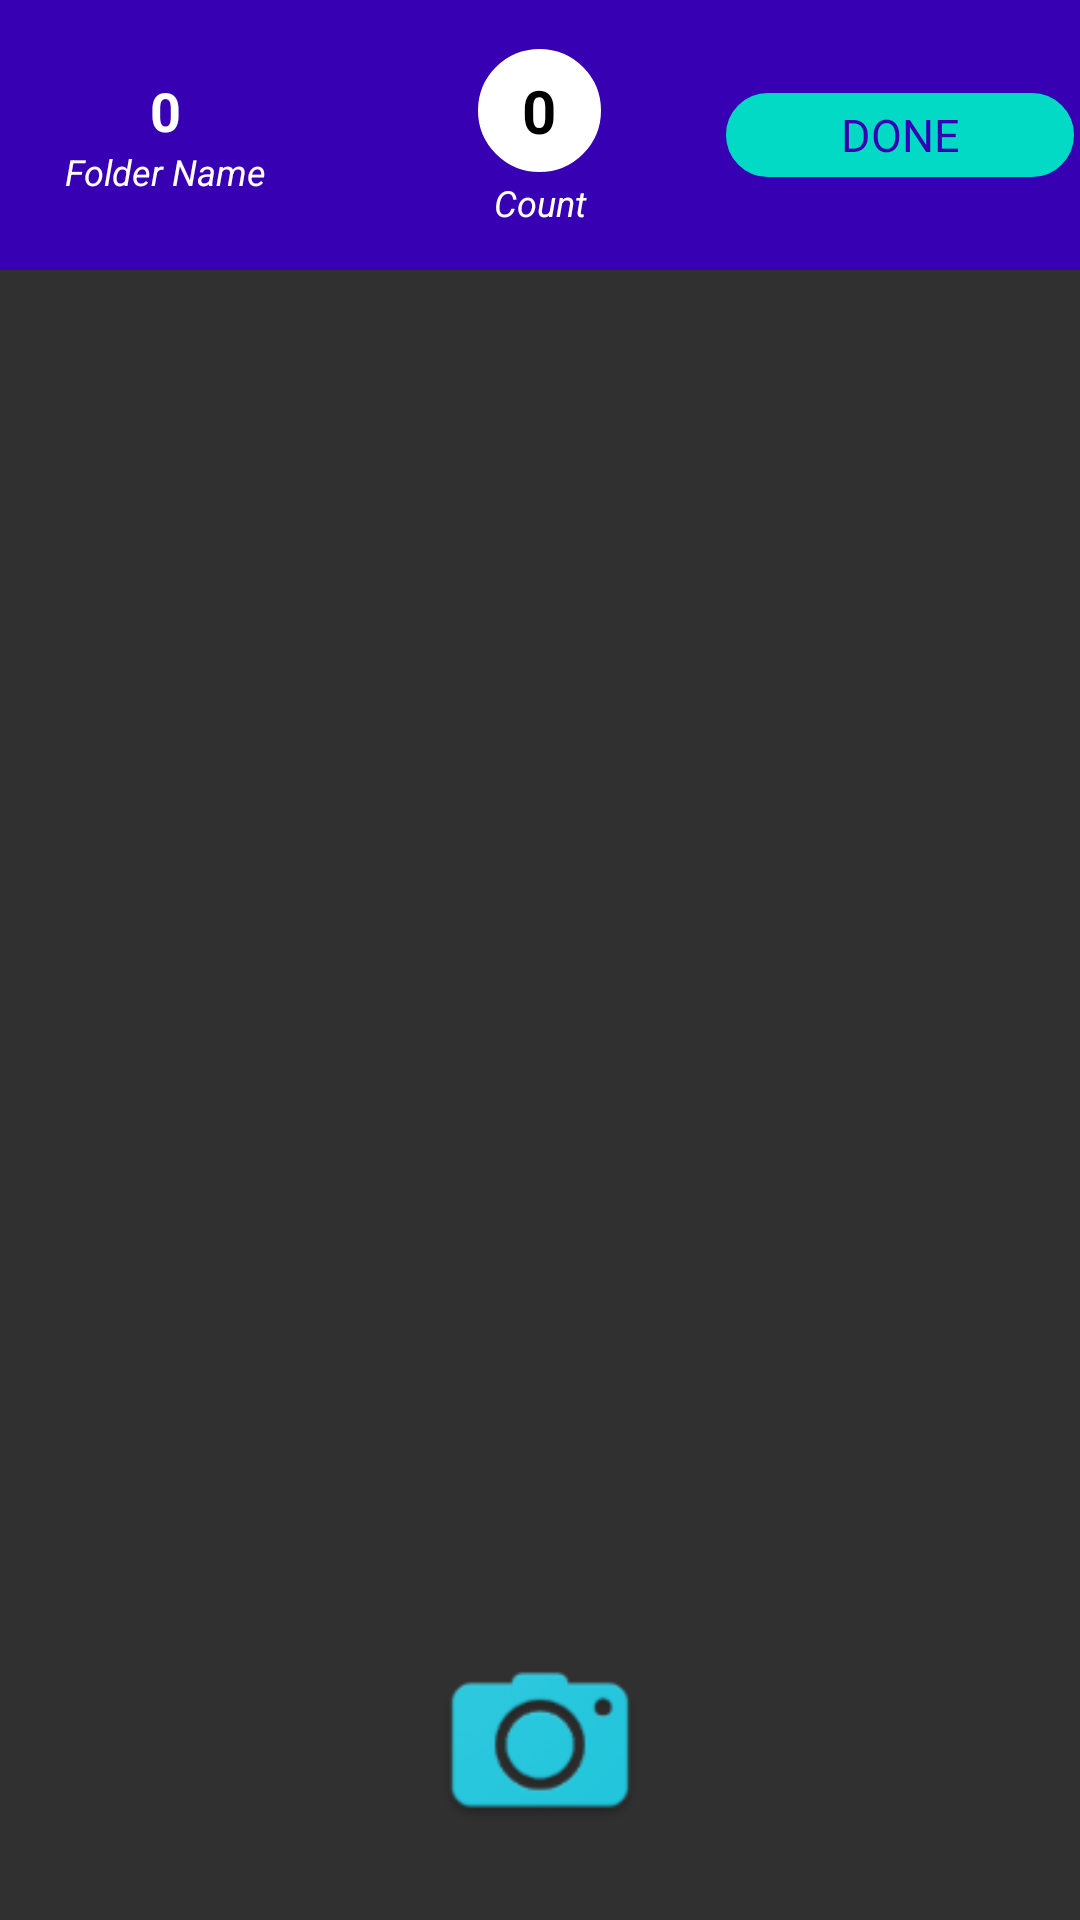

Locate icon controls on the screen. Image size 1080 x 1920, boxes as (x1, y1, x2, y2).
camera: (451, 1672, 629, 1808)
